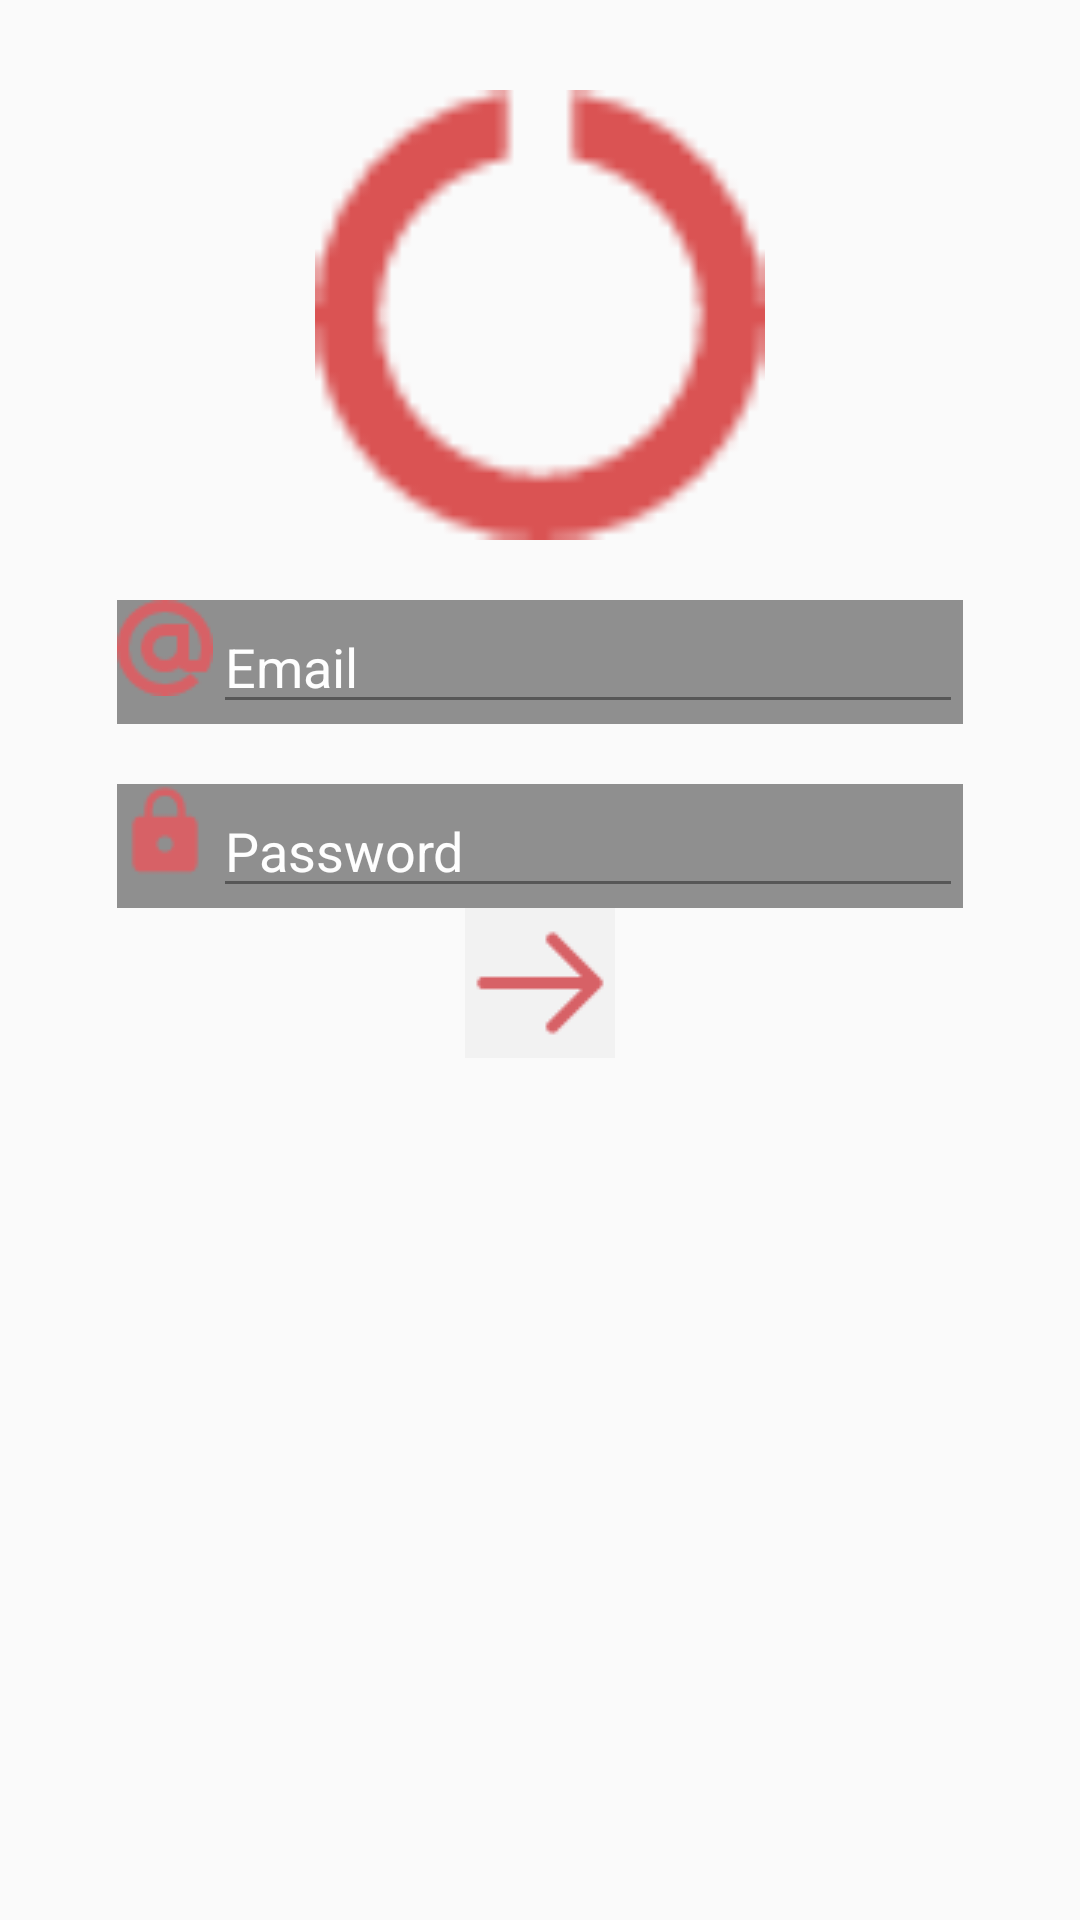

Icon click points for this 1080x1920 phone screenshot, format [x,y]:
At symbol: [165,648]
Confirm: [540,983]
Lock Image: [165,829]
